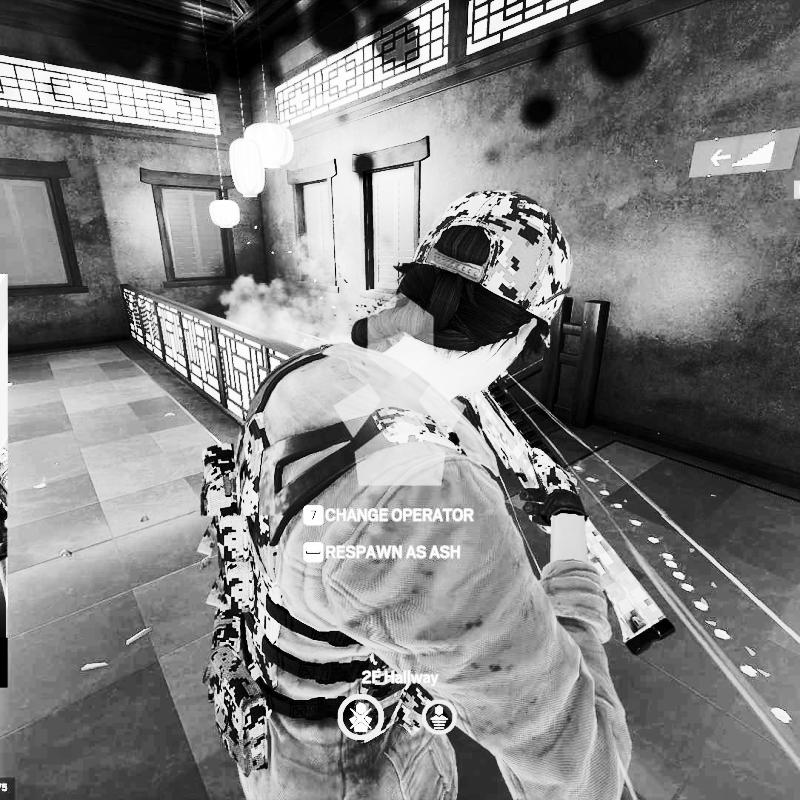Character: (202, 175, 638, 800)
Head: (392, 184, 577, 392)
